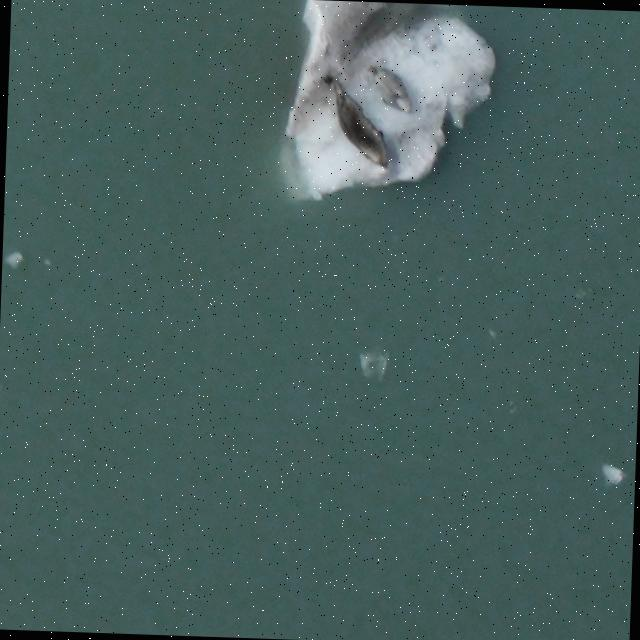seal: (316, 71, 399, 175), (363, 60, 420, 117)
